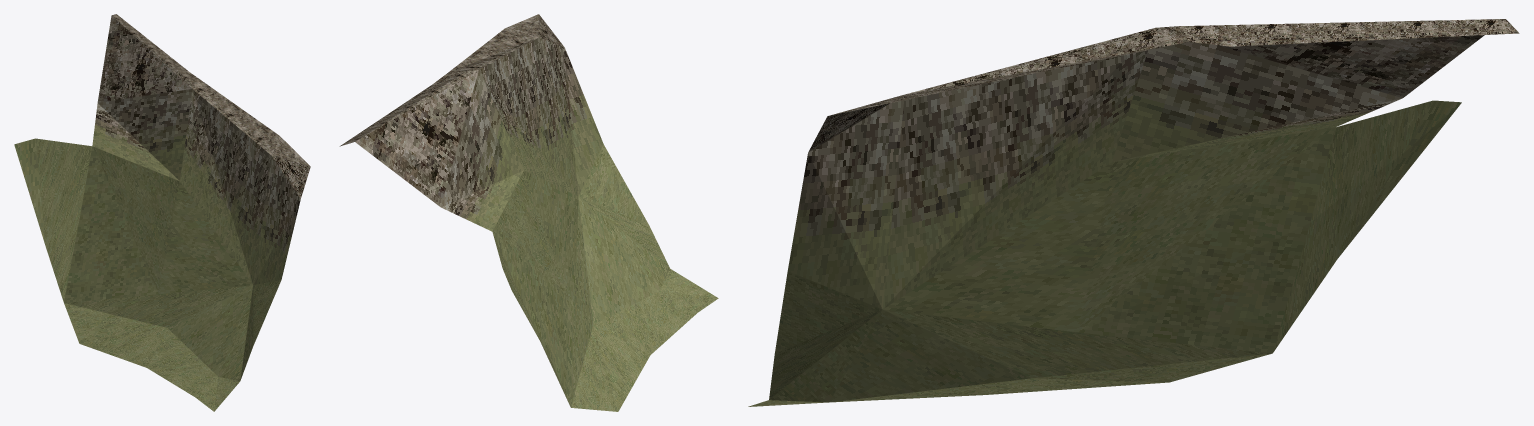
Rendered from lod_land2_sfn12.obj.
3 renders of one model, left to right at view 1: azimuth 30°, elevation 25°; view 2: azimuth 150°, elevation 25°; view 3: azimuth 270°, elevation 25°, orthographic. The views are drawn at different scales.
Visible parts, largest first — view 1: lod_land2_sfN12; view 2: lod_land2_sfN12; view 3: lod_land2_sfN12.
Part boxes in pixels (<box>): lod_land2_sfN12: <box>14,14,310,411</box>; lod_land2_sfN12: <box>339,14,718,411</box>; lod_land2_sfN12: <box>748,19,1519,406</box>.
Bounding box in the file's own units: 109 × 170 × 249.
4 materials, 4 textured.
